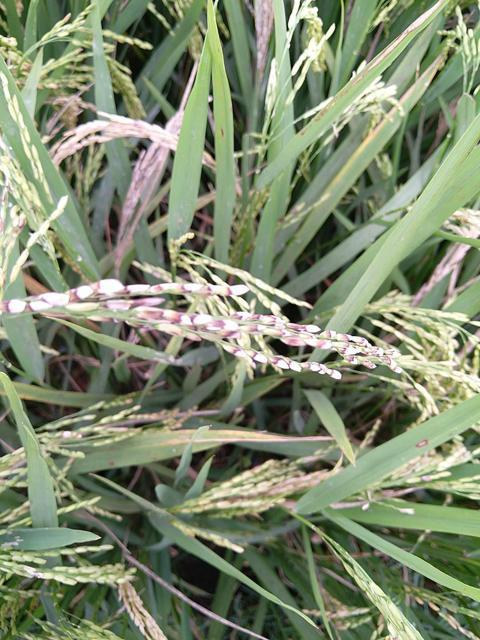Leaf Streak: (416, 441, 429, 450)
Panicle Blight: (231, 312, 397, 372), (7, 279, 250, 314), (222, 346, 342, 380), (136, 307, 195, 325), (102, 297, 165, 311), (87, 317, 147, 330), (163, 325, 203, 343), (204, 320, 261, 331), (219, 328, 243, 340), (11, 215, 25, 234), (61, 431, 84, 440), (0, 218, 3, 233)
